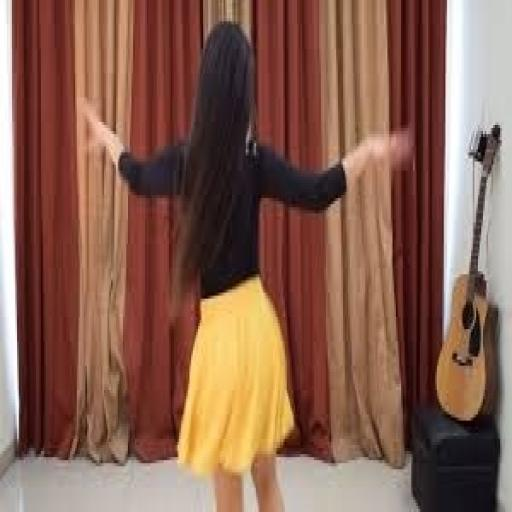dancing: (78, 18, 416, 509)
